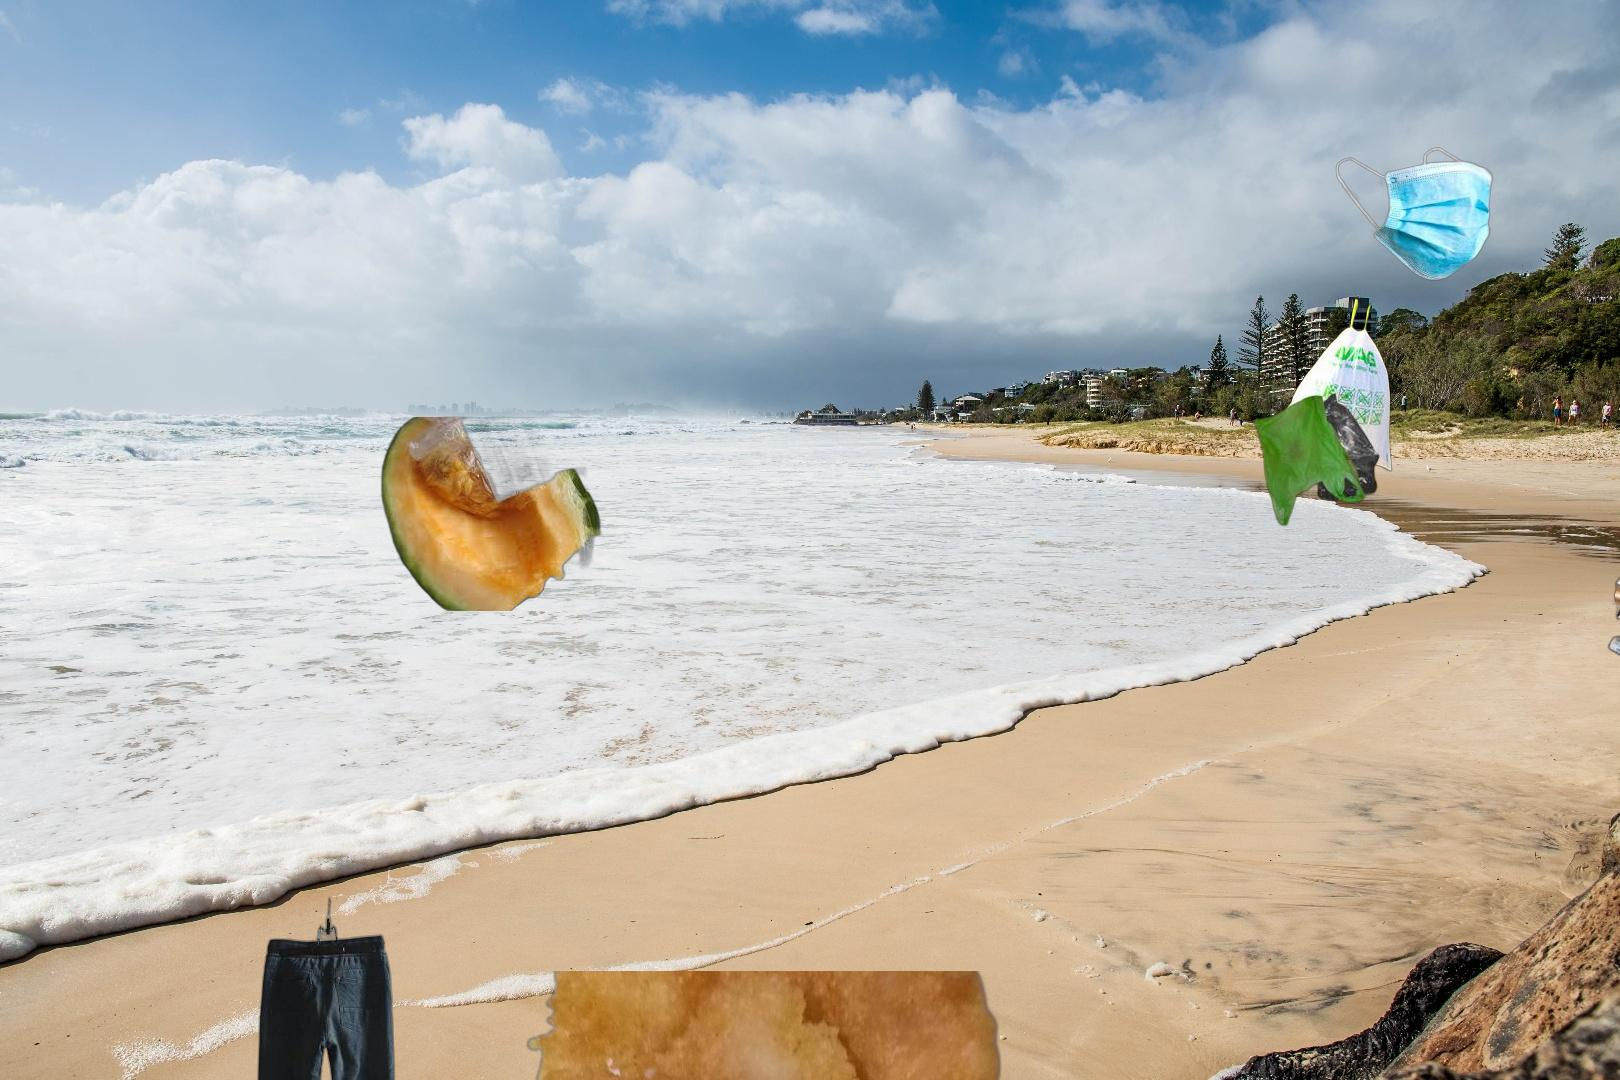battery: (1606, 507, 1620, 692)
biological: (444, 972, 1103, 1080), (378, 417, 615, 611)
clothes: (251, 894, 481, 1080)
plastic-bag: (1250, 295, 1393, 528)
trash: (1336, 145, 1495, 283)
